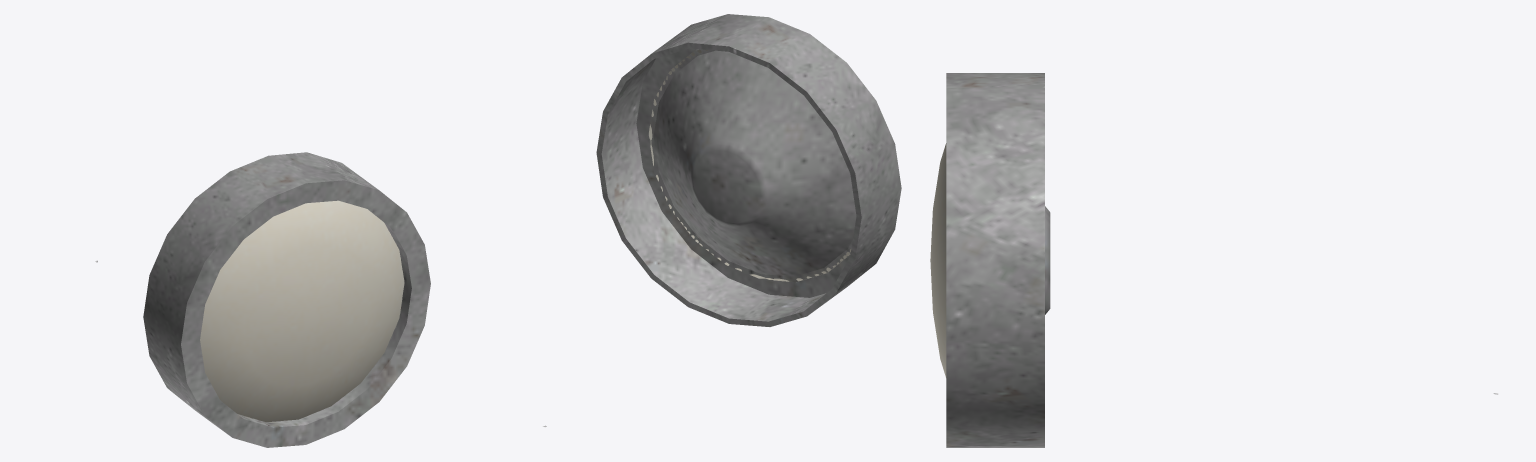
File: sm35_045_flashlight01a.fbx
3 renders of one model, left to right at view 1: azimuth 30°, elevation 25°; view 2: azimuth 150°, elevation 25°; view 3: azimuth 270°, elevation 25°, orthographic. The views are drawn at different scales.
Visible parts, largest first — view 1: LOD_1_Group_1_Sub_1__sm35_029_FlashLight01A_B_Mat, LOD_1_Group_0_Sub_1__sm35_029_FlashLight01A_A_Mat; view 2: LOD_1_Group_0_Sub_1__sm35_029_FlashLight01A_A_Mat, LOD_1_Group_1_Sub_1__sm35_029_FlashLight01A_B_Mat; view 3: LOD_1_Group_0_Sub_1__sm35_029_FlashLight01A_A_Mat, LOD_1_Group_1_Sub_1__sm35_029_FlashLight01A_B_Mat.
Boxes of the visible parts, bbox=[...] form: LOD_1_Group_1_Sub_1__sm35_029_FlashLight01A_B_Mat: bbox=[200, 200, 404, 421]; LOD_1_Group_0_Sub_1__sm35_029_FlashLight01A_A_Mat: bbox=[95, 152, 430, 447]; LOD_1_Group_0_Sub_1__sm35_029_FlashLight01A_A_Mat: bbox=[543, 14, 901, 427]; LOD_1_Group_1_Sub_1__sm35_029_FlashLight01A_B_Mat: bbox=[649, 49, 851, 281]; LOD_1_Group_0_Sub_1__sm35_029_FlashLight01A_A_Mat: bbox=[946, 73, 1498, 447]; LOD_1_Group_1_Sub_1__sm35_029_FlashLight01A_B_Mat: bbox=[930, 143, 946, 377].
Size of the model in its own units: 0.1679 by 0.1958 by 0.2628.
